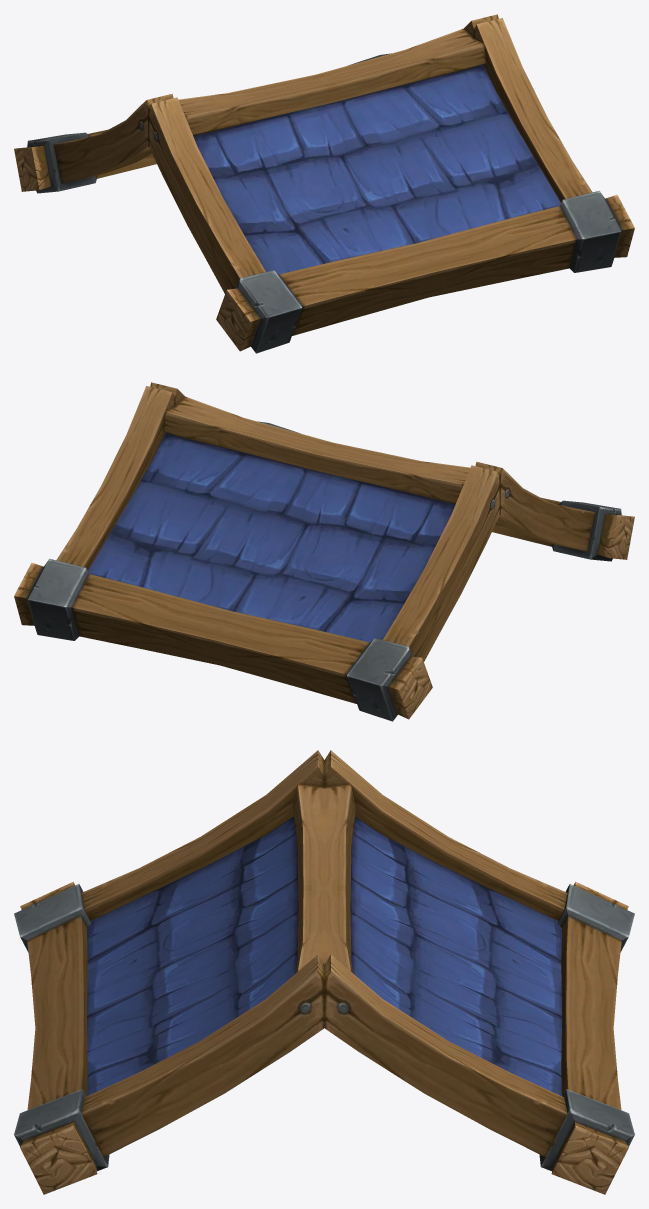
3 renders of one model, top to bottom at view 1: azimuth 30°, elevation 25°; view 2: azimuth 150°, elevation 25°; view 3: azimuth 270°, elevation 25°, orthographic. The views are drawn at different scales.
Bounding box in the file's own units: 2.47 × 1.02 × 2.61.
Materials: 1 (1 with a texture image).
